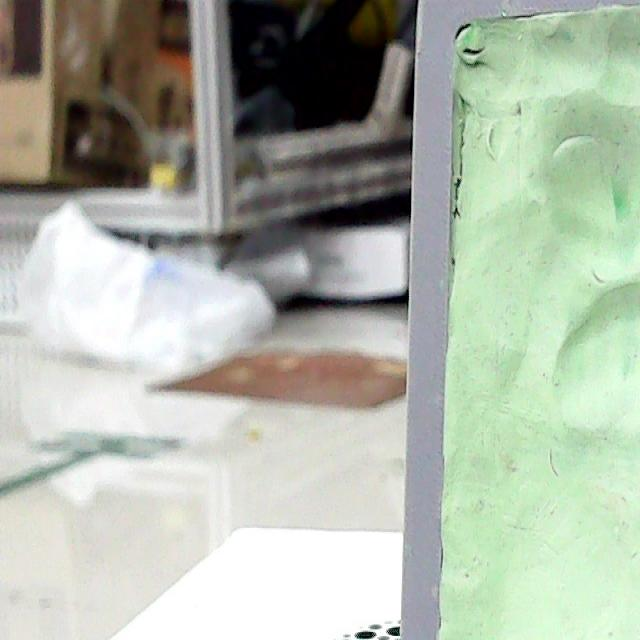block: (400, 0, 636, 628)
